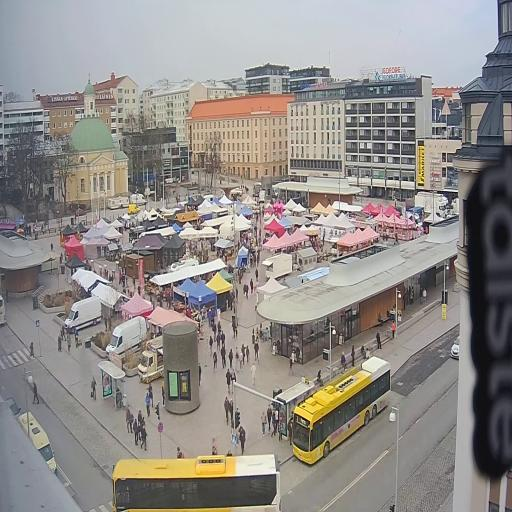bus: (287, 348, 399, 467), (100, 447, 290, 512), (0, 284, 10, 329)
car: (2, 393, 23, 428), (450, 330, 464, 360)
delivery: (18, 406, 62, 482), (102, 314, 151, 366), (61, 290, 104, 338), (411, 192, 448, 220), (128, 190, 148, 208), (125, 202, 140, 221)
